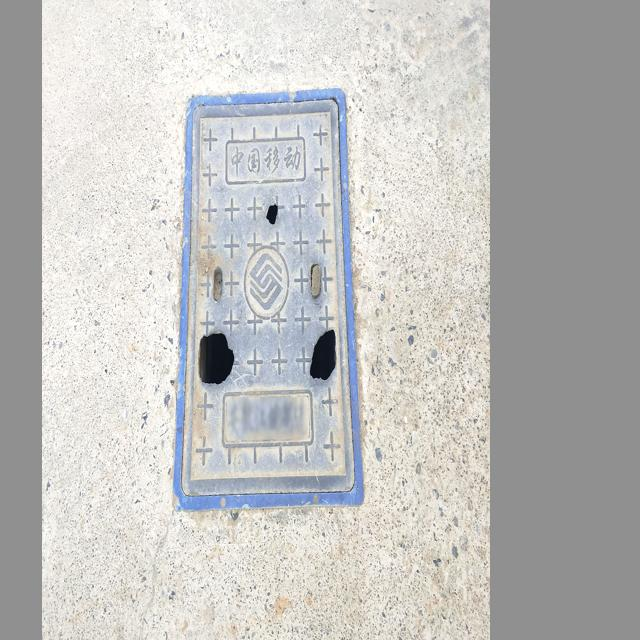broke: (174, 87, 366, 510)
